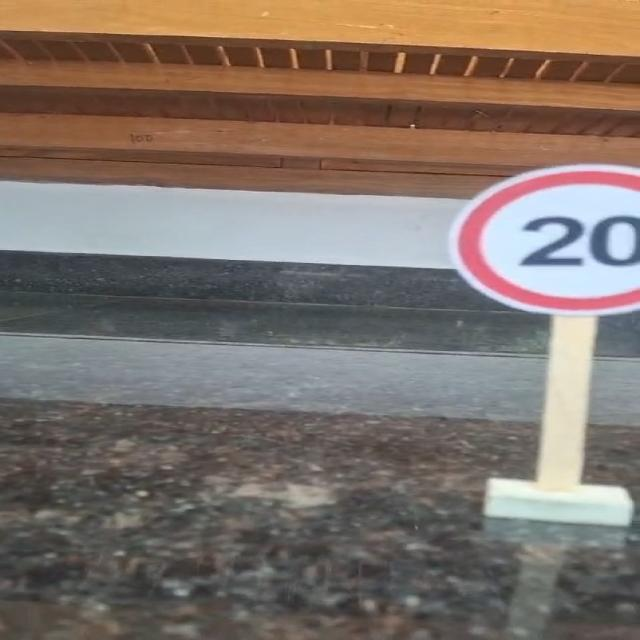Speed20: (440, 154, 640, 323)
